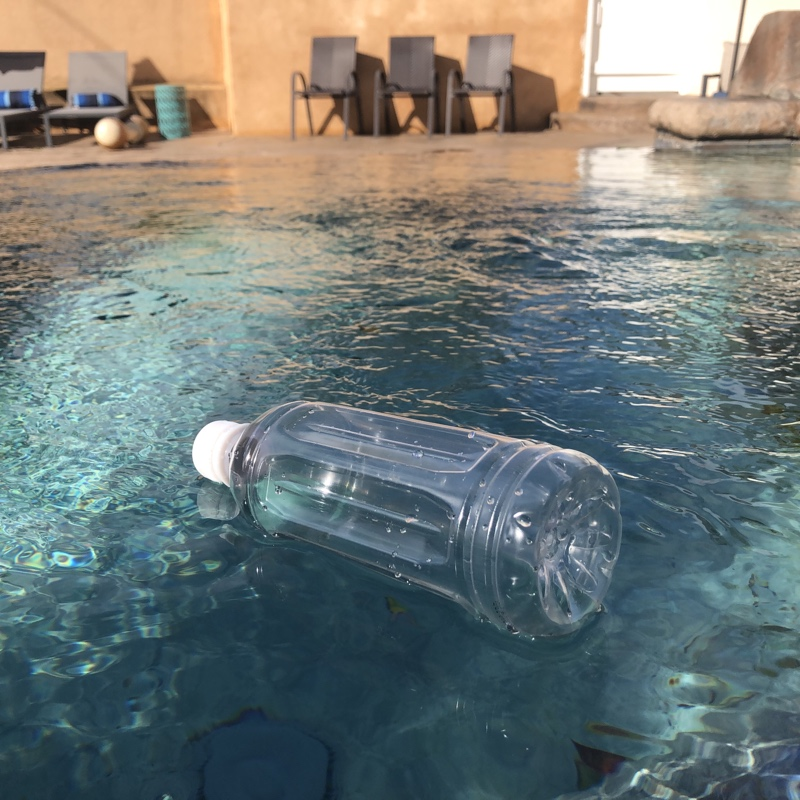Plastic Bottle: (190, 395, 627, 650)
